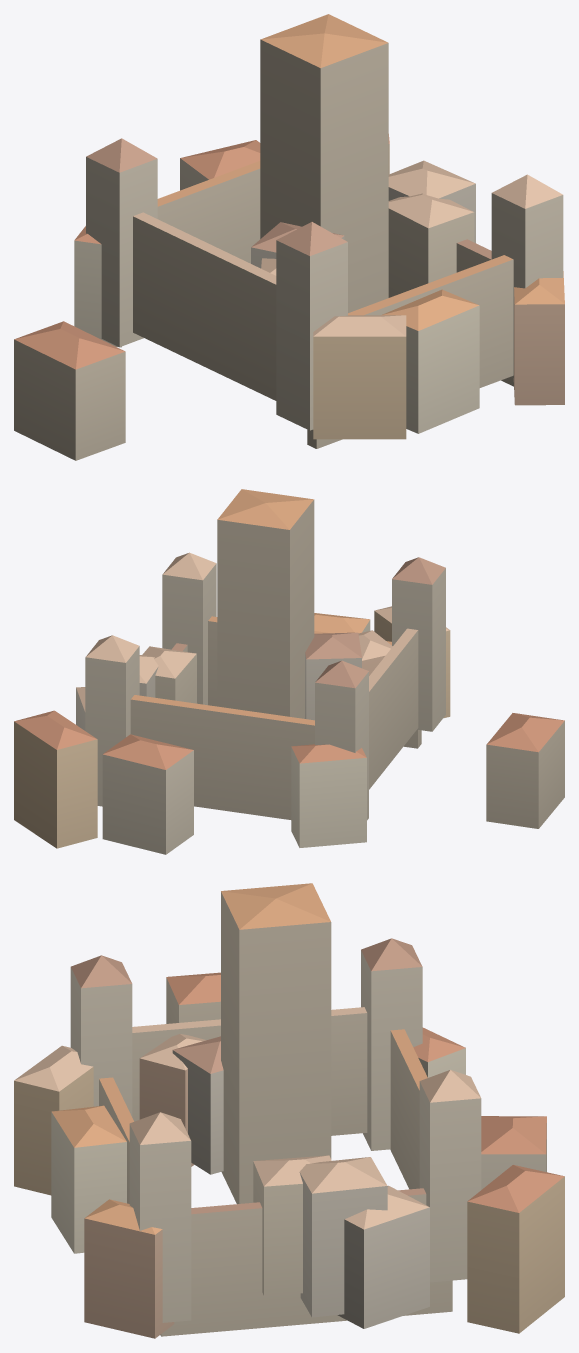
Rendered from SM_BM_BVV_Village_1.glb.
3 renders of one model, top to bottom at view 1: azimuth 30°, elevation 25°; view 2: azimuth 150°, elevation 25°; view 3: azimuth 270°, elevation 25°, orthographic. The views are drawn at different scales.
Parts seen in each view (by area): view 1: SM_BM_BVV_Village_1; view 2: SM_BM_BVV_Village_1; view 3: SM_BM_BVV_Village_1.
Part boxes in pixels (box(x1,y1,x2,y2)): SM_BM_BVV_Village_1: box(14, 14, 564, 460); SM_BM_BVV_Village_1: box(14, 489, 564, 854); SM_BM_BVV_Village_1: box(14, 883, 564, 1338).
Size of the model in its own units: 108 by 72.31 by 100.
